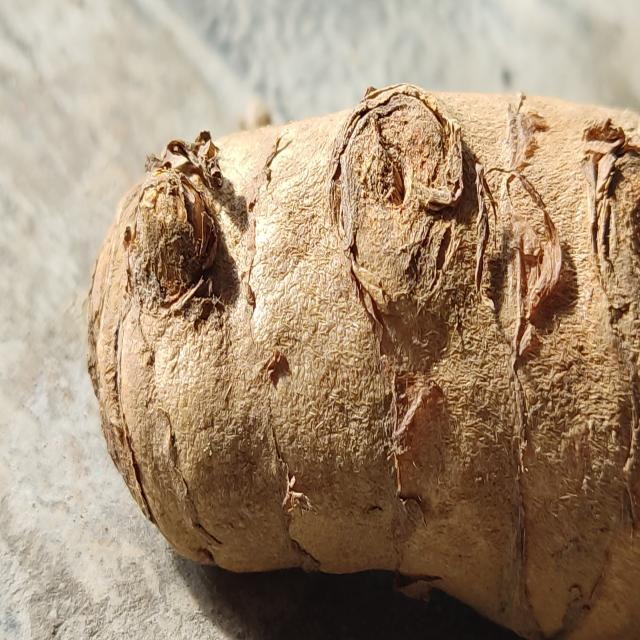ginger: (94, 91, 640, 615)
